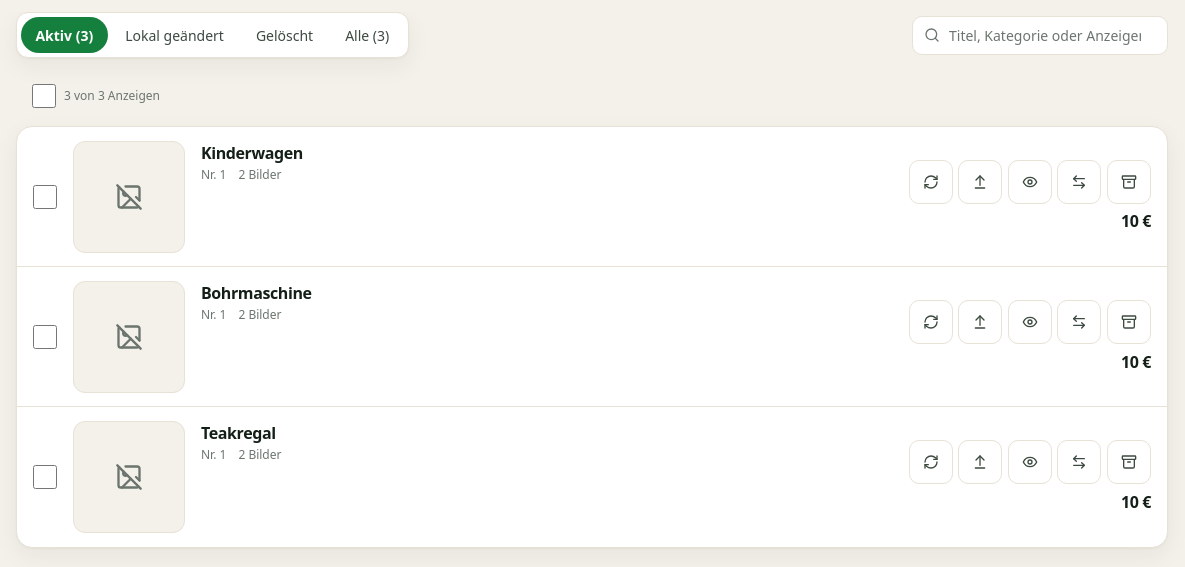
Test: Mehrfachauswahl › zeigt die Sammelleiste erst mit einer Auswahl
This screenshot has width=1185, height=567.
Expected: the text "Kinderwagen" is shown, [201,142,303,164]
Click the checkbox named "„Kinderwagen\" auswählen": (45, 197) [33,185,57,209]
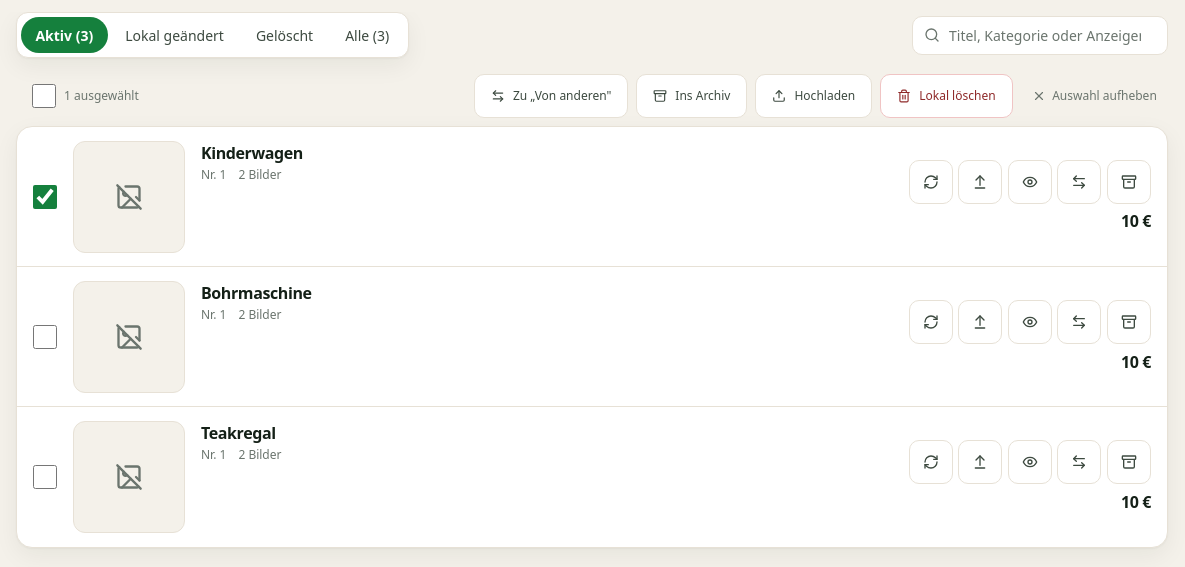
Expected: the element named "Sammelaktionen" is shown, [474,74,1168,118]
Expected: the text "1 ausgewählt" is shown, [16,84,139,108]
